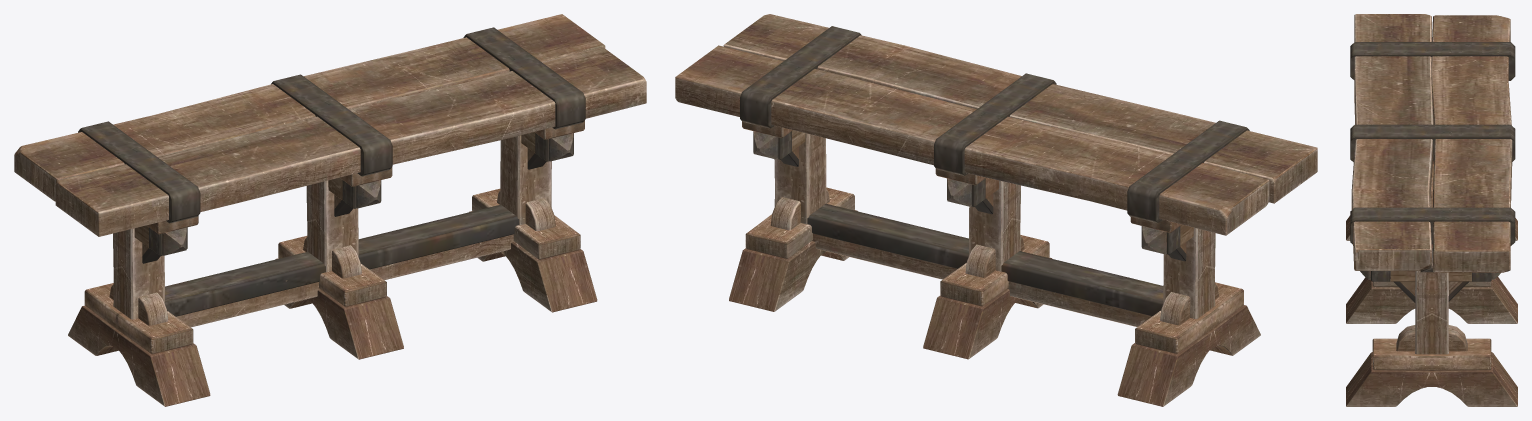
3 views of the same model, side by side, from view 1: azimuth 30°, elevation 25°; view 2: azimuth 150°, elevation 25°; view 3: azimuth 270°, elevation 25° (orthographic). The views are drawn at different scales.
Visible parts, largest first — view 1: SM_DR_Bench_A_01_01_LOD0; view 2: SM_DR_Bench_A_01_01_LOD0; view 3: SM_DR_Bench_A_01_01_LOD0.
Boxes of the visible parts, x1,y1,x2,y2 form: SM_DR_Bench_A_01_01_LOD0: [14, 14, 646, 406]; SM_DR_Bench_A_01_01_LOD0: [675, 14, 1317, 406]; SM_DR_Bench_A_01_01_LOD0: [1346, 14, 1517, 406].
Size of the model in its own units: 1.61 by 0.5799 by 0.492.
Materials: 3 (3 with a texture image).
